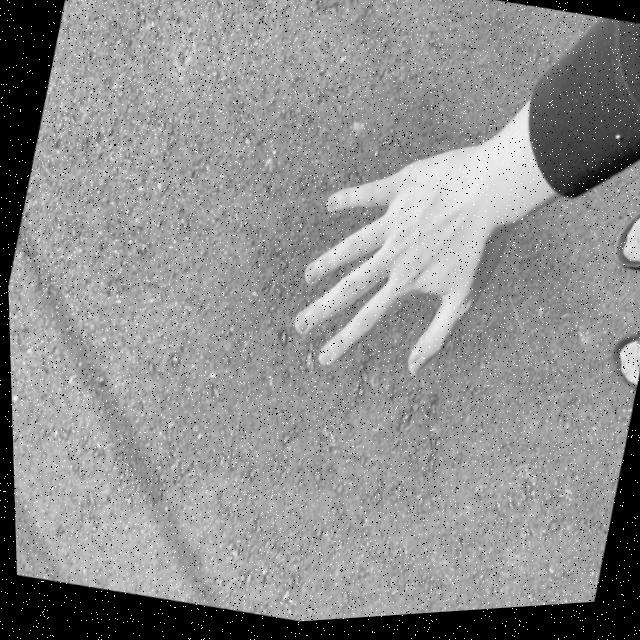hand: (272, 111, 523, 411)
